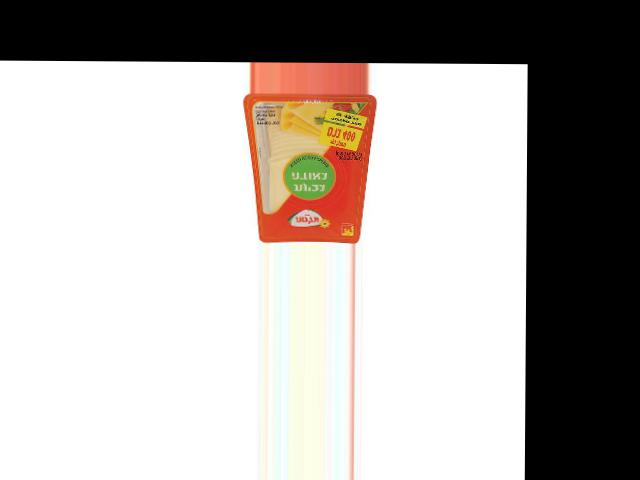cheese: (242, 92, 377, 242)
